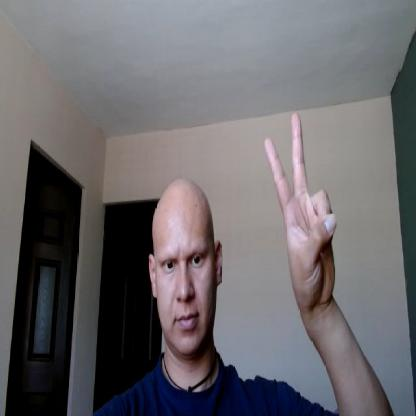V: (263, 107, 339, 303)
